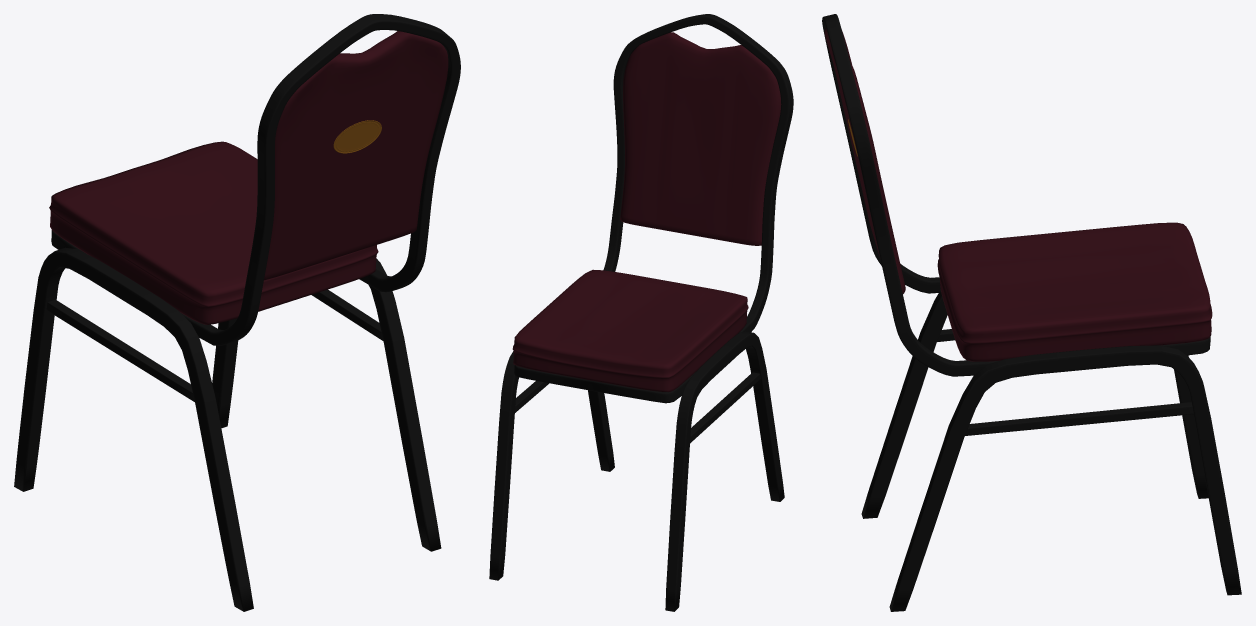
File: Conference Chair.obj
The picture shows the model from 3 angles, left to right: view 1: azimuth 30°, elevation 25°; view 2: azimuth 150°, elevation 25°; view 3: azimuth 270°, elevation 25°; orthographic projection. The views are drawn at different scales.
Visible parts, largest first — view 1: Cube_Cube.001, Cube.002_Cube.003, Cube.001_Cube.002, Circle; view 2: Cube.002_Cube.003, Cube_Cube.001, Cube.001_Cube.002; view 3: Cube.001_Cube.002, Cube_Cube.001, Cube.002_Cube.003.
Boxes of the visible parts, box(x1,y1,x2,y2) form: Cube_Cube.001: box(14, 14, 460, 611); Cube.002_Cube.003: box(264, 31, 448, 280); Cube.001_Cube.002: box(49, 141, 378, 324); Circle: box(333, 120, 381, 153); Cube.002_Cube.003: box(620, 32, 781, 245); Cube_Cube.001: box(489, 14, 793, 611); Cube.001_Cube.002: box(512, 269, 748, 392); Cube.001_Cube.002: box(937, 222, 1212, 361); Cube_Cube.001: box(822, 14, 1241, 611); Cube.002_Cube.003: box(824, 28, 905, 293).
Size of the model in its own units: 3.41 by 7.26 by 5.06.
